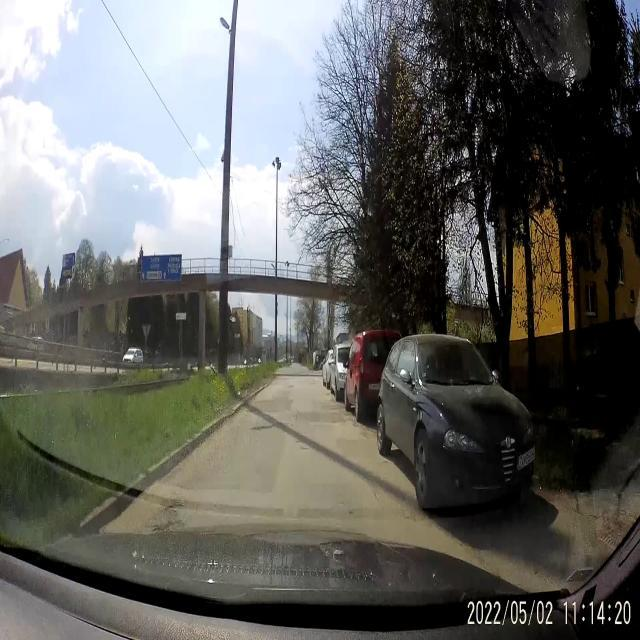Pothole: (156, 493, 194, 520)
